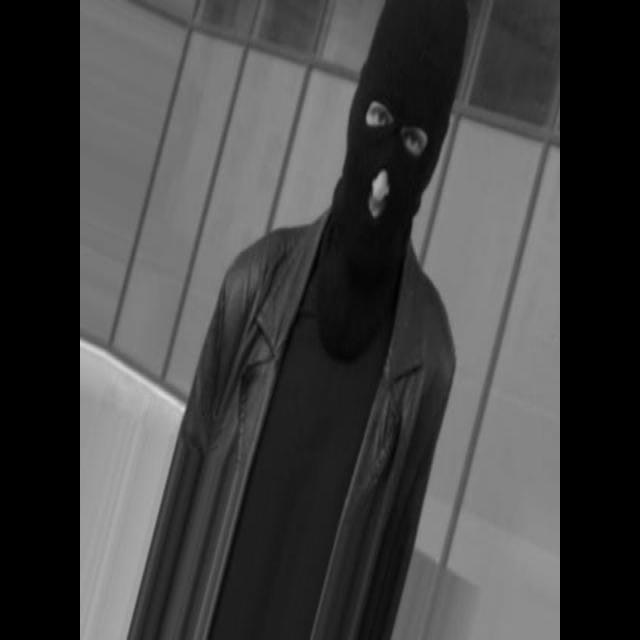6_pasamontana: (325, 1, 468, 334)
